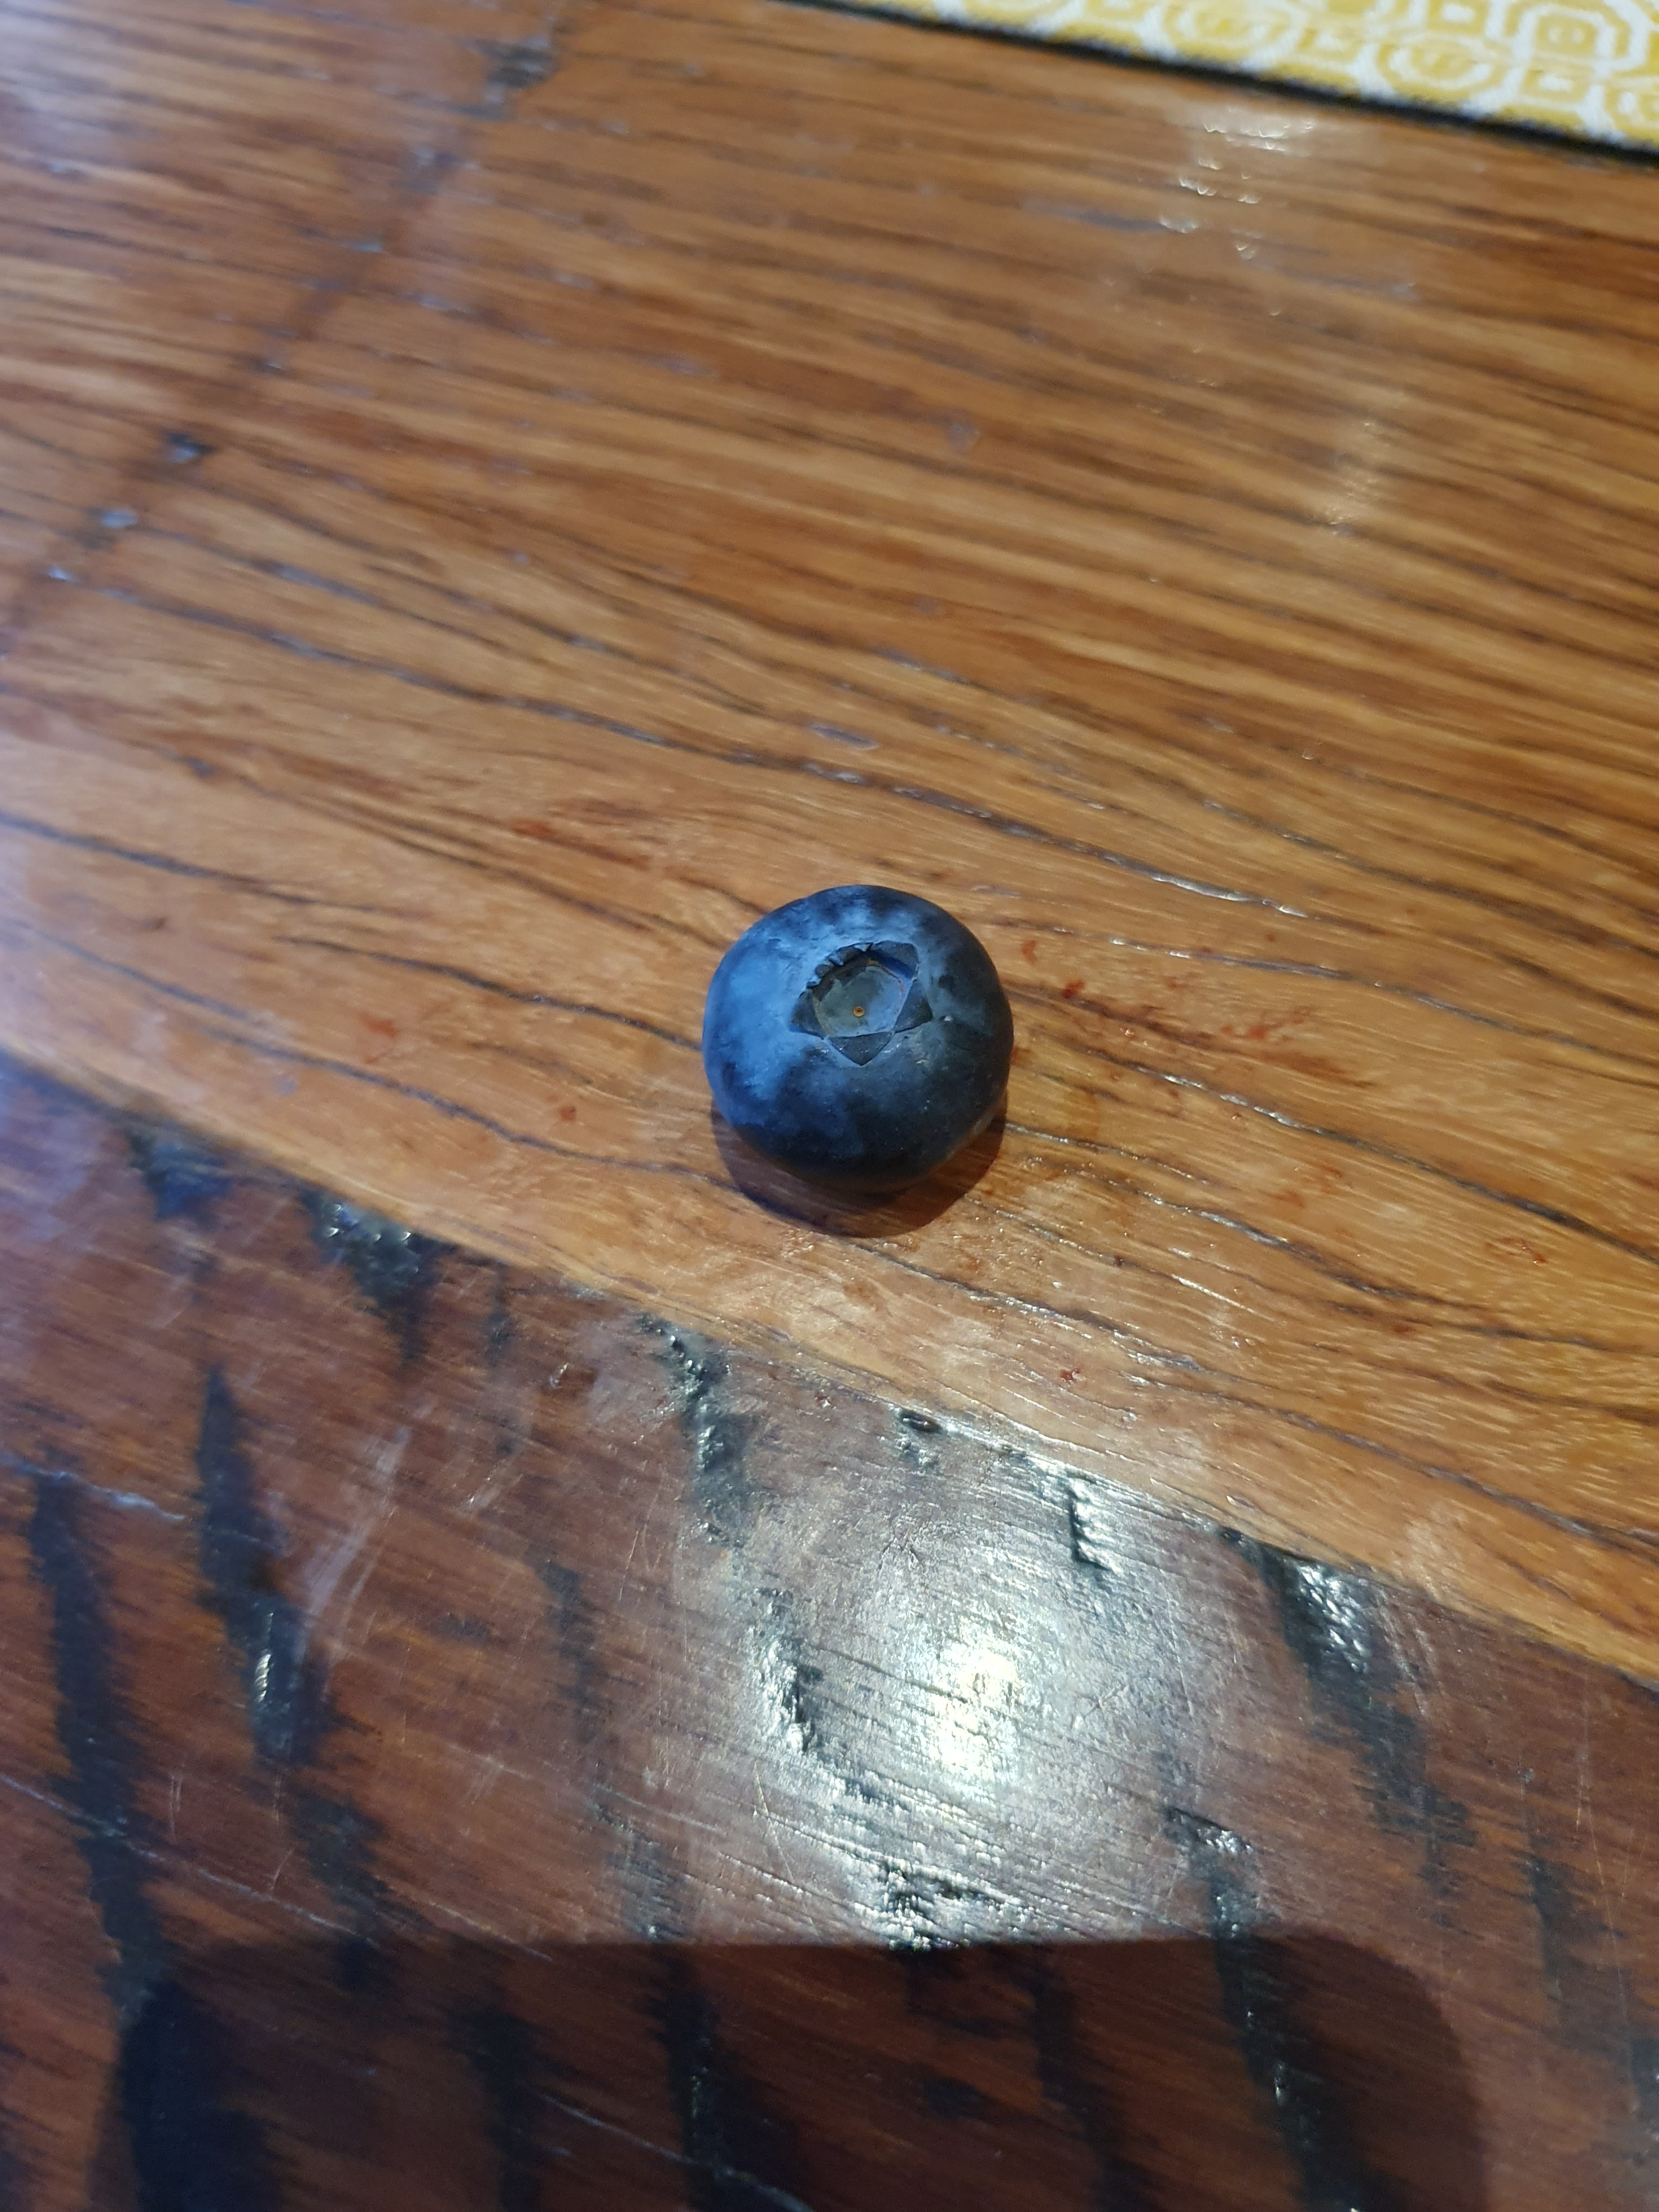blueberry: (676, 862, 1042, 1240)
